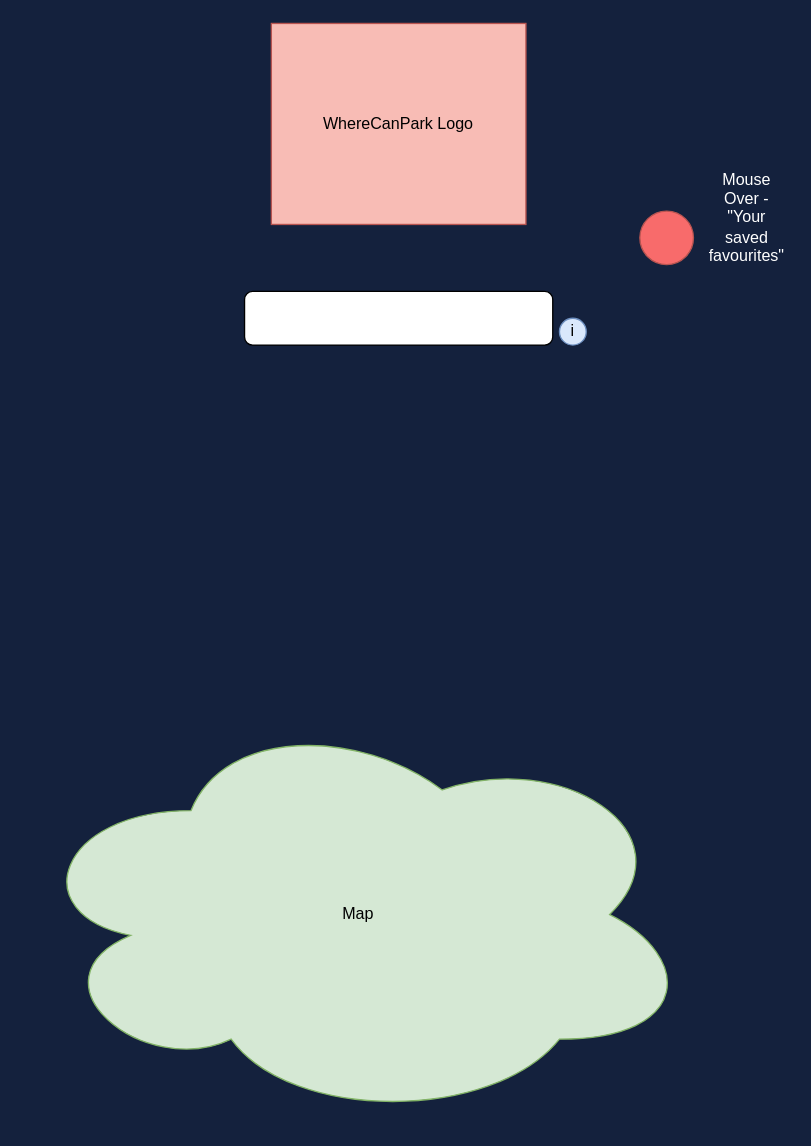
Some shapes in this 811 by 1146 pixel diagram are drawn without their labels. The centre of each missing label's shape, as x and y in pixels:
Fav: the point at 666,237
Postal Code: the point at 398,317
